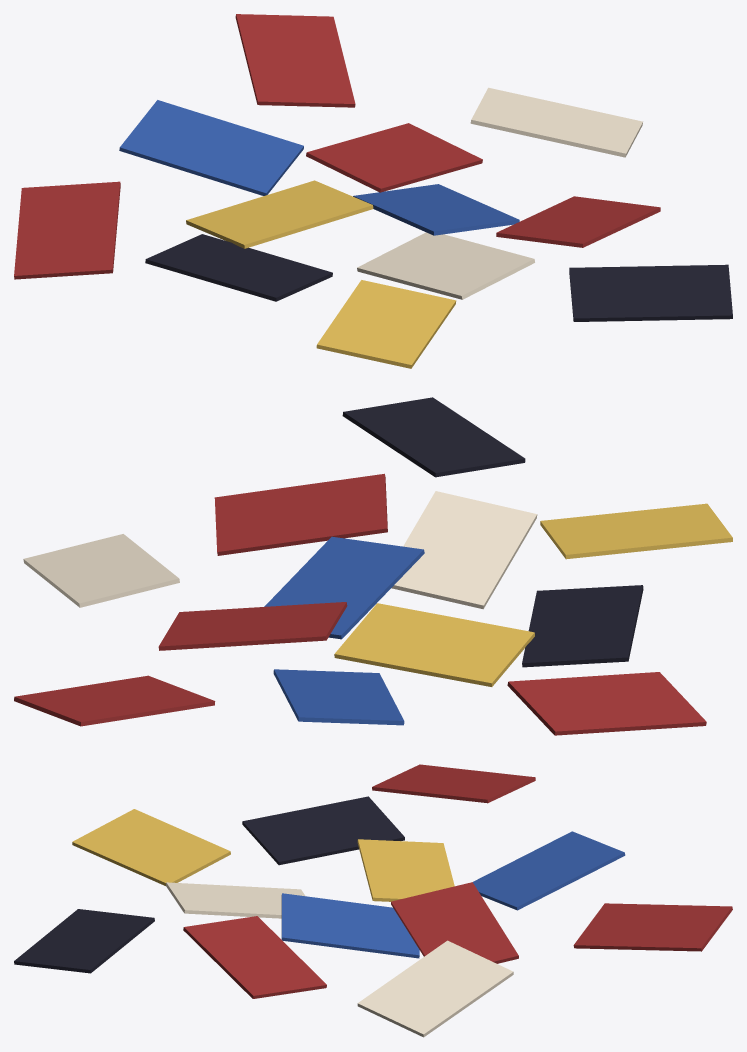
Rendered from prop_obang_scraps.glb.
3 renders of one model, top to bottom at view 1: azimuth 30°, elevation 25°; view 2: azimuth 150°, elevation 25°; view 3: azimuth 270°, elevation 25°, orthographic. The views are drawn at different scales.
Visible parts, largest first — view 1: Scrap_07, Scrap_10, Scrap_12, Scrap_11, Scrap_08, Scrap_03, Scrap_04, Scrap_02, Scrap_09, Scrap_05, Scrap_06, Scrap_01; view 2: Scrap_03, Scrap_02, Scrap_06, Scrap_10, Scrap_05, Scrap_11, Scrap_01, Scrap_08, Scrap_09, Scrap_04, Scrap_12, Scrap_07; view 3: Scrap_09, Scrap_05, Scrap_06, Scrap_08, Scrap_01, Scrap_12, Scrap_04, Scrap_07, Scrap_11, Scrap_02, Scrap_10, Scrap_03.
Boxes of the visible parts, left/top/right/bottom form: Scrap_07: left=119, top=100, right=303, bottom=195; Scrap_10: left=14, top=181, right=120, bottom=279; Scrap_12: left=235, top=14, right=355, bottom=107; Scrap_11: left=569, top=264, right=732, bottom=321; Scrap_08: left=316, top=280, right=456, bottom=368; Scrap_03: left=357, top=232, right=534, bottom=299; Scrap_04: left=306, top=123, right=482, bottom=192; Scrap_02: left=186, top=180, right=373, bottom=248; Scrap_09: left=470, top=87, right=642, bottom=157; Scrap_05: left=145, top=234, right=332, bottom=301; Scrap_06: left=496, top=196, right=660, bottom=247; Scrap_01: left=353, top=184, right=519, bottom=235; Scrap_03: left=391, top=491, right=537, bottom=609; Scrap_02: left=334, top=603, right=534, bottom=686; Scrap_06: left=214, top=473, right=387, bottom=555; Scrap_10: left=507, top=672, right=706, bottom=735; Scrap_05: left=522, top=585, right=643, bottom=667; Scrap_11: left=342, top=397, right=525, bottom=477; Scrap_01: left=264, top=536, right=424, bottom=639; Scrap_08: left=540, top=503, right=732, bottom=559; Scrap_09: left=23, top=534, right=179, bottom=607; Scrap_04: left=158, top=602, right=347, bottom=650; Scrap_12: left=14, top=675, right=215, bottom=726; Scrap_07: left=273, top=669, right=404, bottom=725; Scrap_09: left=357, top=940, right=513, bottom=1037; Scrap_05: left=242, top=796, right=404, bottom=865; Scrap_06: left=183, top=916, right=326, bottom=998; Scrap_08: left=72, top=809, right=230, bottom=885; Scrap_01: left=281, top=893, right=419, bottom=958; Scrap_12: left=573, top=903, right=732, bottom=951; Scrap_04: left=391, top=882, right=518, bottom=963; Scrap_07: left=473, top=831, right=625, bottom=910; Scrap_11: left=14, top=909, right=154, bottom=973; Scrap_02: left=357, top=839, right=454, bottom=901; Scrap_10: left=372, top=764, right=535, bottom=803; Scrap_03: left=166, top=882, right=305, bottom=918.
Size of the model in its own units: 2.06 by 0.1507 by 2.32.
